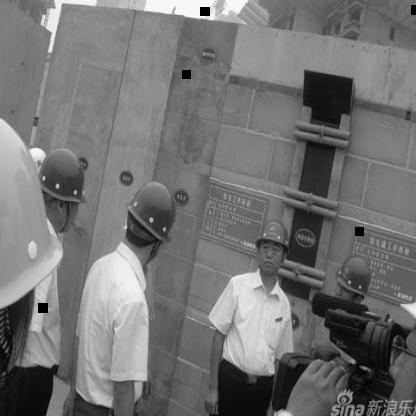helmet: (124, 173, 180, 251), (38, 132, 94, 209), (252, 214, 295, 275), (332, 248, 374, 303)
